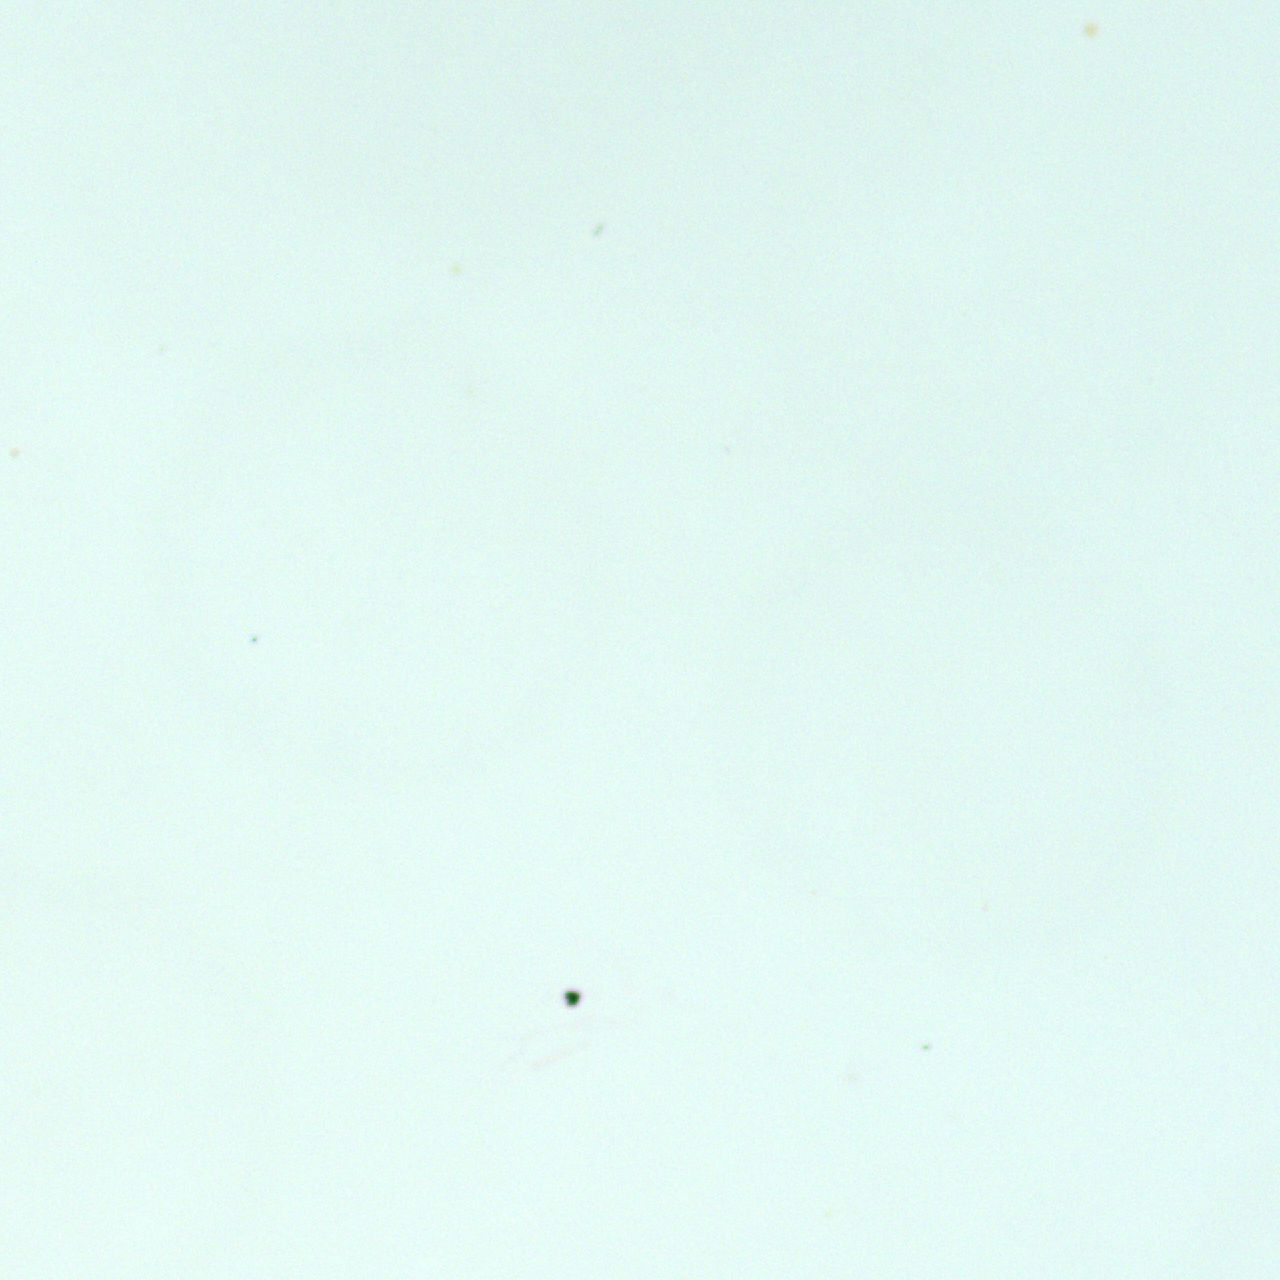dust: (561, 990, 586, 1013)
